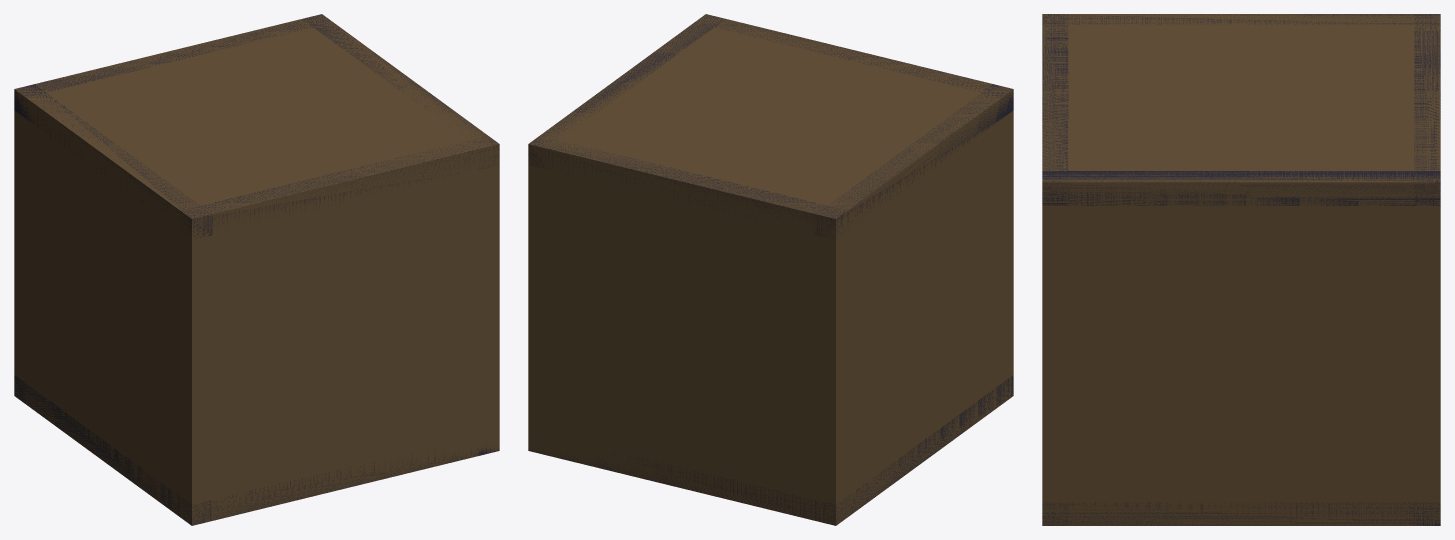
The model's file is crate.glb.
3 views of the same model, side by side, from view 1: azimuth 30°, elevation 25°; view 2: azimuth 150°, elevation 25°; view 3: azimuth 270°, elevation 25° (orthographic). The views are drawn at different scales.
Visible parts, largest first — view 1: crate; view 2: crate; view 3: crate.
Boxes of the visible parts, x1,y1,x2,y2 form: crate: [14, 14, 499, 525]; crate: [528, 14, 1013, 525]; crate: [1042, 14, 1440, 525].
Size of the model in its own units: 1.06 by 1.01 by 1.06.
